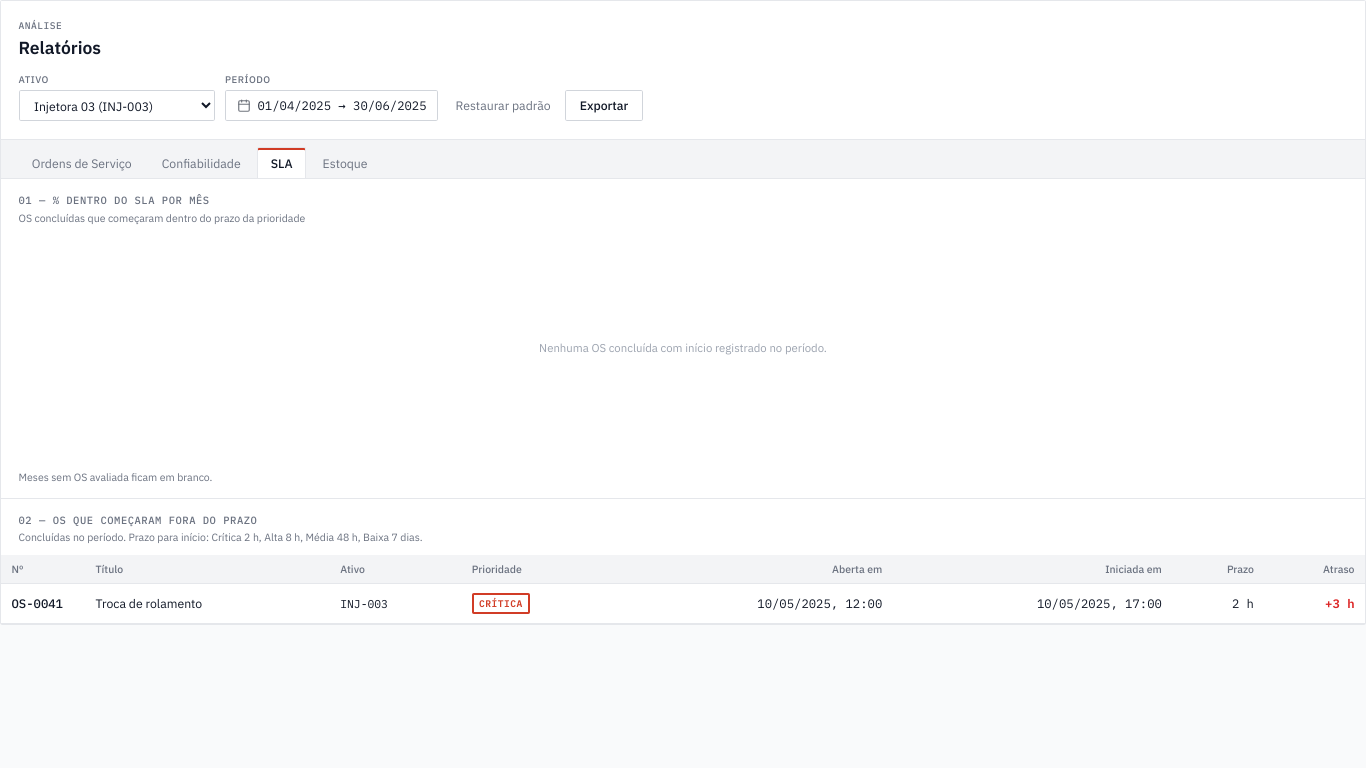
Test: ReportsPage › deve restaurar o período padrão
Click the button "Restaurar padrão" at (503, 106), box [449,90,558,121]
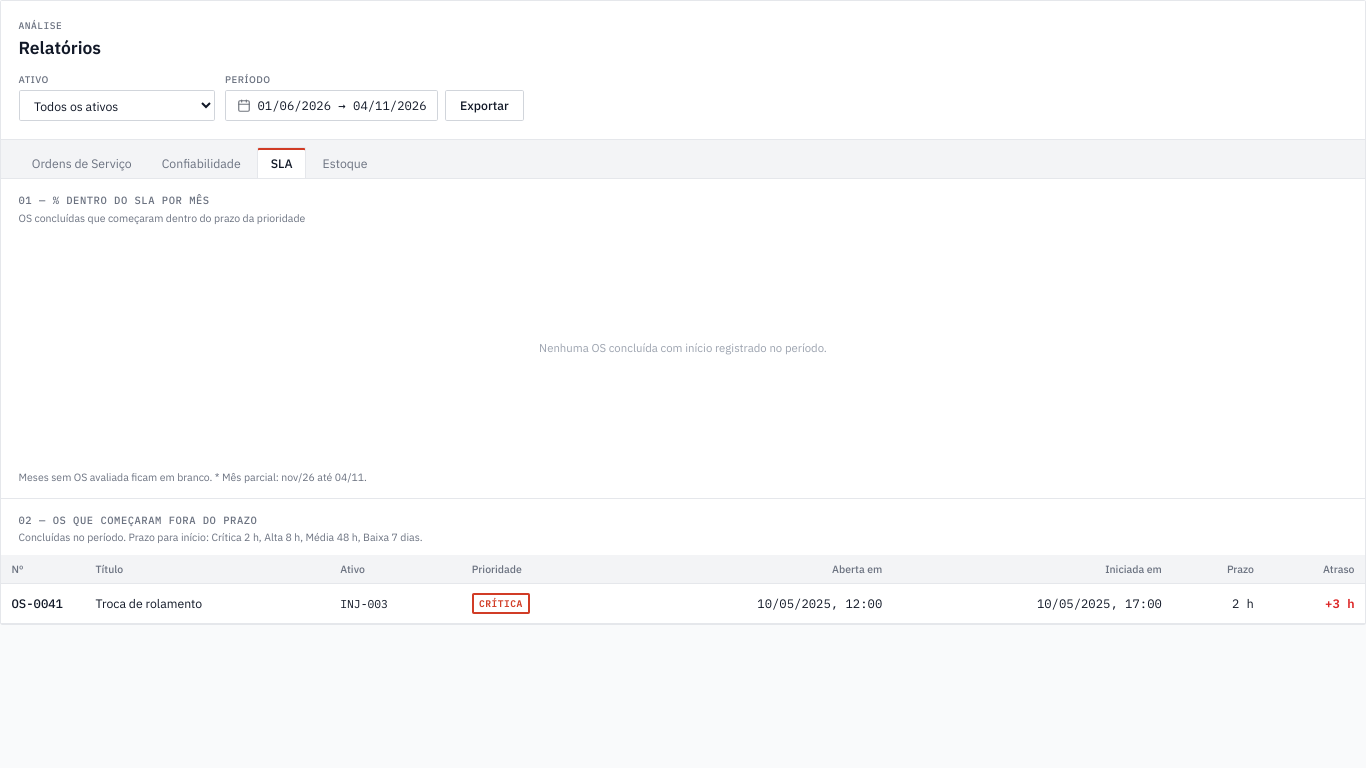
Check: the dropdown labelled "Ativo" shows "Todos os ativos", box [18,90,214,121]
